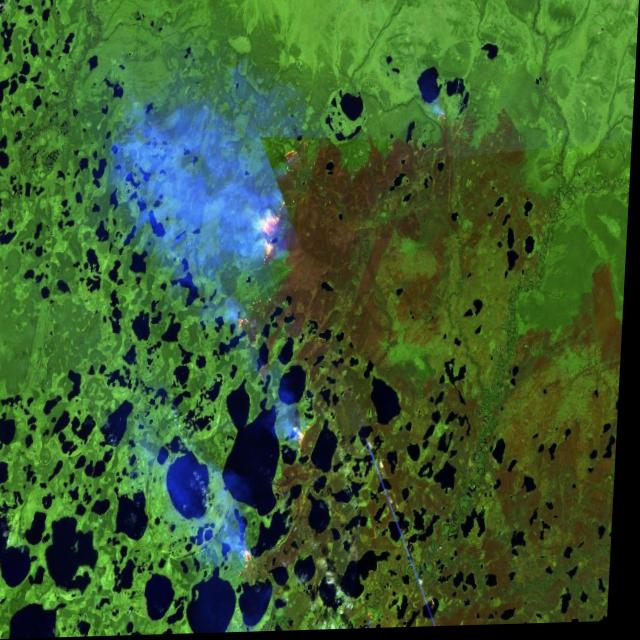fire: (233, 129, 320, 361), (283, 415, 329, 472), (238, 539, 274, 594), (420, 105, 459, 150)
